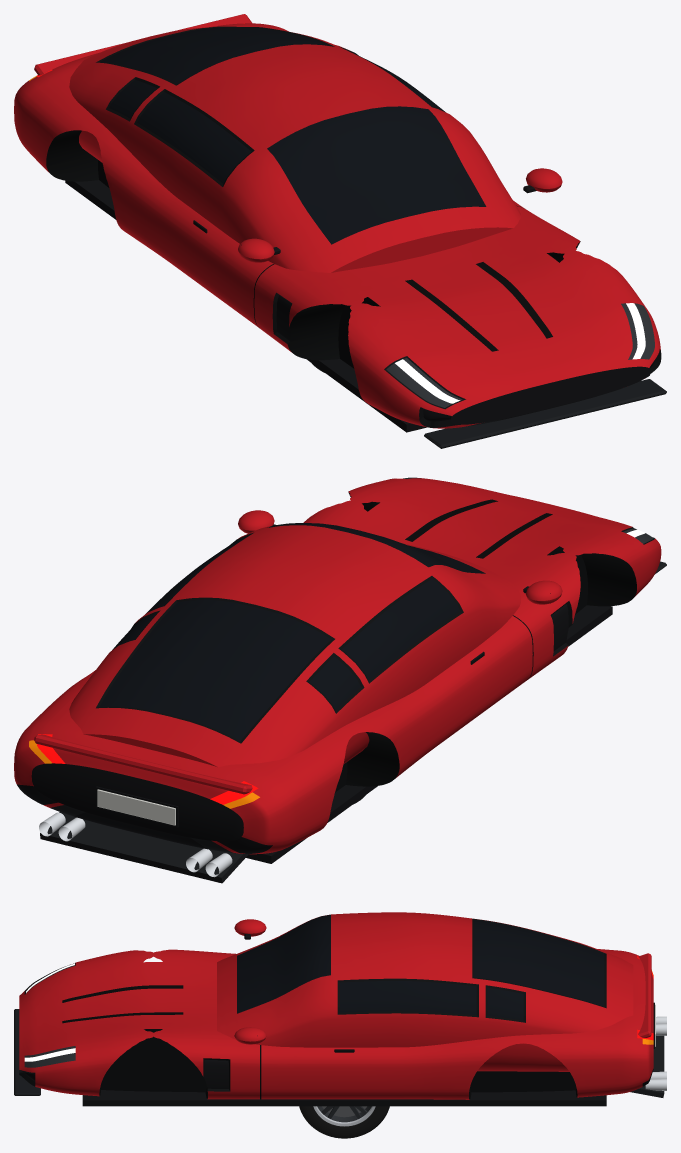
3 renders of one model, top to bottom at view 1: azimuth 30°, elevation 25°; view 2: azimuth 150°, elevation 25°; view 3: azimuth 270°, elevation 25°, orthographic. The views are drawn at different scales.
Visible parts, largest first — view 1: shell_lod0, splitter, details, wing, mirrorL, mirrorR; view 2: shell_lod0, details, wing, plate, mirrorR, mirrorL; view 3: shell_lod0, details, wheel_lod0, splitter, wing, mirrorR, mirrorL.
Boxes of the visible parts, left/top/right/bottom form: shell_lod0: left=14, top=23, right=661, bottom=428; splitter: left=424, top=379, right=666, bottom=448; details: left=65, top=180, right=426, bottom=432; wing: left=34, top=14, right=251, bottom=75; mirrorL: left=523, top=168, right=562, bottom=193; mirrorR: left=238, top=238, right=280, bottom=262; shell_lod0: left=14, top=477, right=661, bottom=854; details: left=39, top=605, right=612, bottom=883; wing: left=34, top=734, right=252, bottom=794; plate: left=96, top=786, right=178, bottom=827; mirrorR: left=523, top=580, right=562, bottom=604; mirrorL: left=238, top=510, right=275, bottom=533; shell_lod0: left=19, top=912, right=653, bottom=1099; details: left=82, top=1016, right=666, bottom=1106; wheel_lod0: left=299, top=1106, right=389, bottom=1138; splitter: left=14, top=1009, right=40, bottom=1095; wing: left=638, top=953, right=651, bottom=1037; mirrorR: left=234, top=919, right=266, bottom=939; mirrorL: left=234, top=1027, right=266, bottom=1044.
Size of what is drawn, in the model's own units: 2.1 by 1.65 by 4.86.
